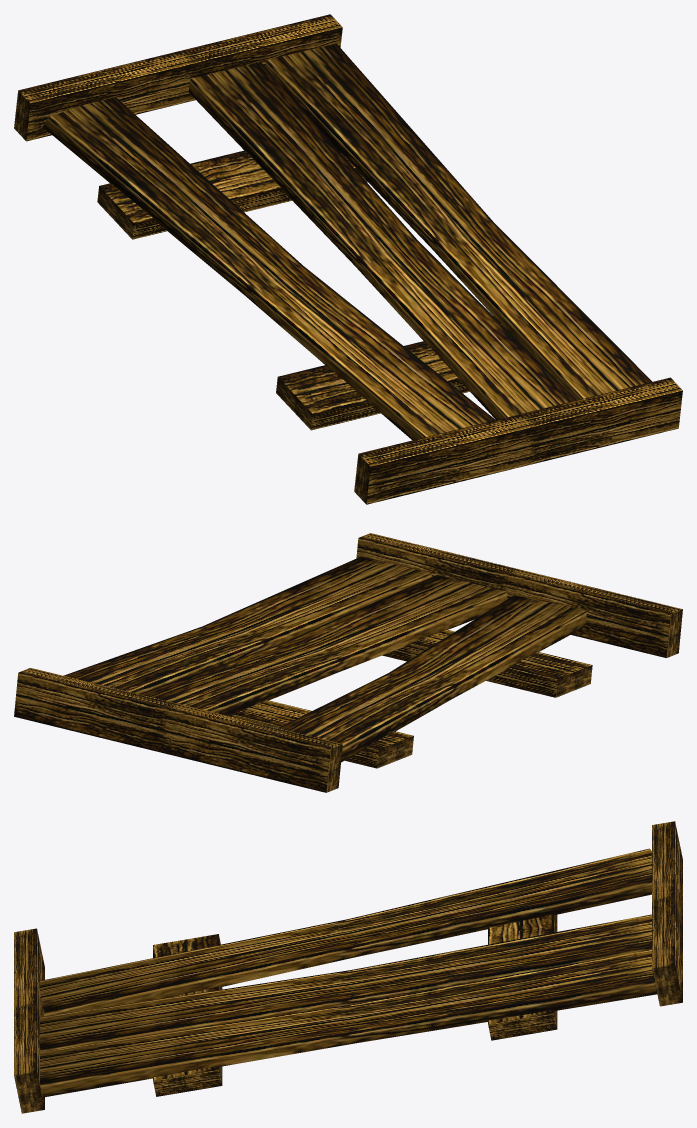
File: RM_WPOOL_PLATFORM02.fbx
The picture shows the model from 3 angles, top to bottom: view 1: azimuth 30°, elevation 25°; view 2: azimuth 150°, elevation 25°; view 3: azimuth 270°, elevation 25°; orthographic projection. The views are drawn at different scales.
Visible parts, largest first — view 1: RM_WPOOL_PLATFORM02; view 2: RM_WPOOL_PLATFORM02; view 3: RM_WPOOL_PLATFORM02.
Part boxes in pixels (box(x1,y1,x2,y2)): RM_WPOOL_PLATFORM02: box(14, 14, 682, 504); RM_WPOOL_PLATFORM02: box(14, 533, 682, 792); RM_WPOOL_PLATFORM02: box(14, 821, 682, 1113).
Size of the model in its own units: 18013 by 8785 by 35621.
Materials: 1 (1 with a texture image).
